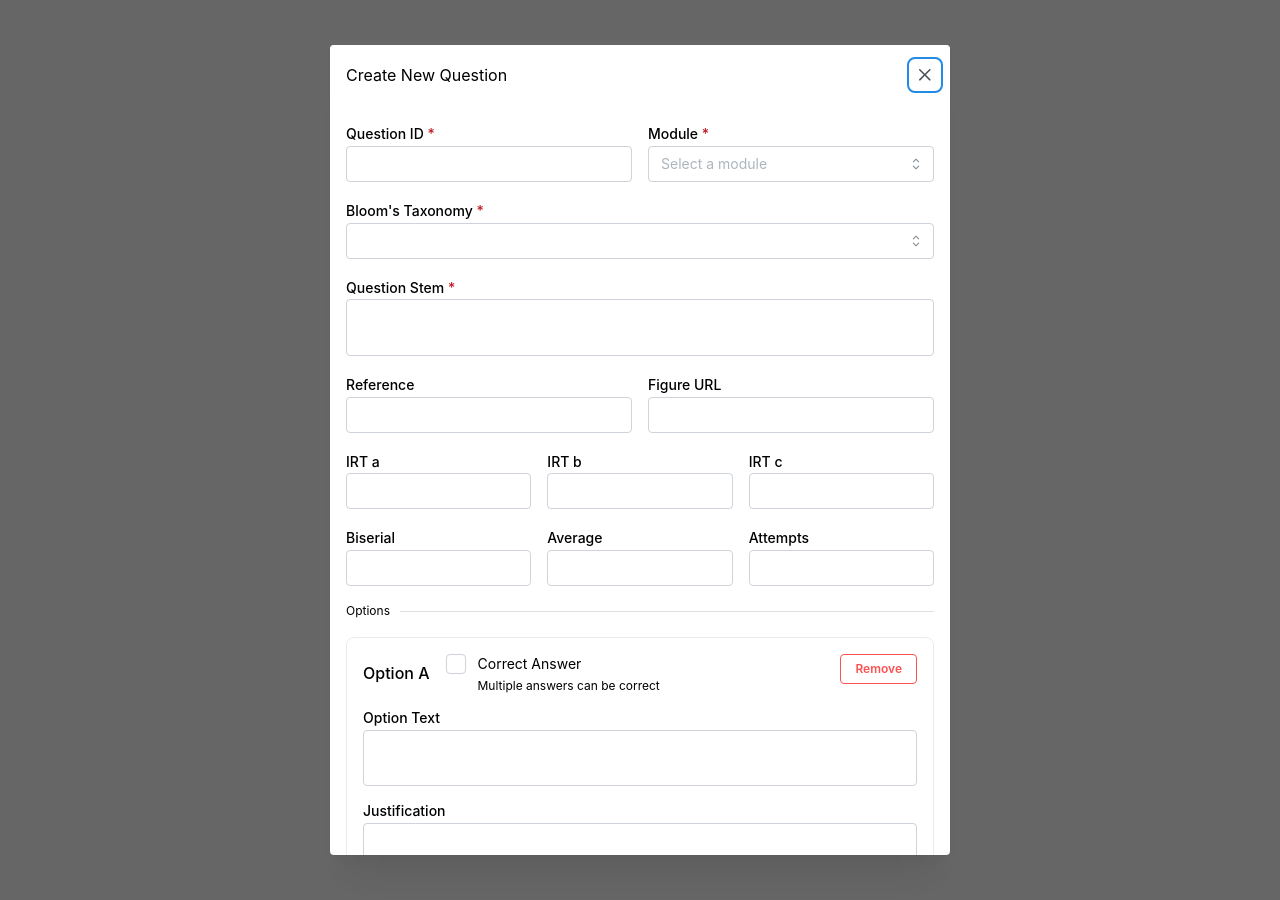
Scenario: EditQuestionModal › disables remove buttons when only 2 options remain
Click the button "Remove".
click(879, 669)  # box [840, 654, 917, 684]
(page scrolled)
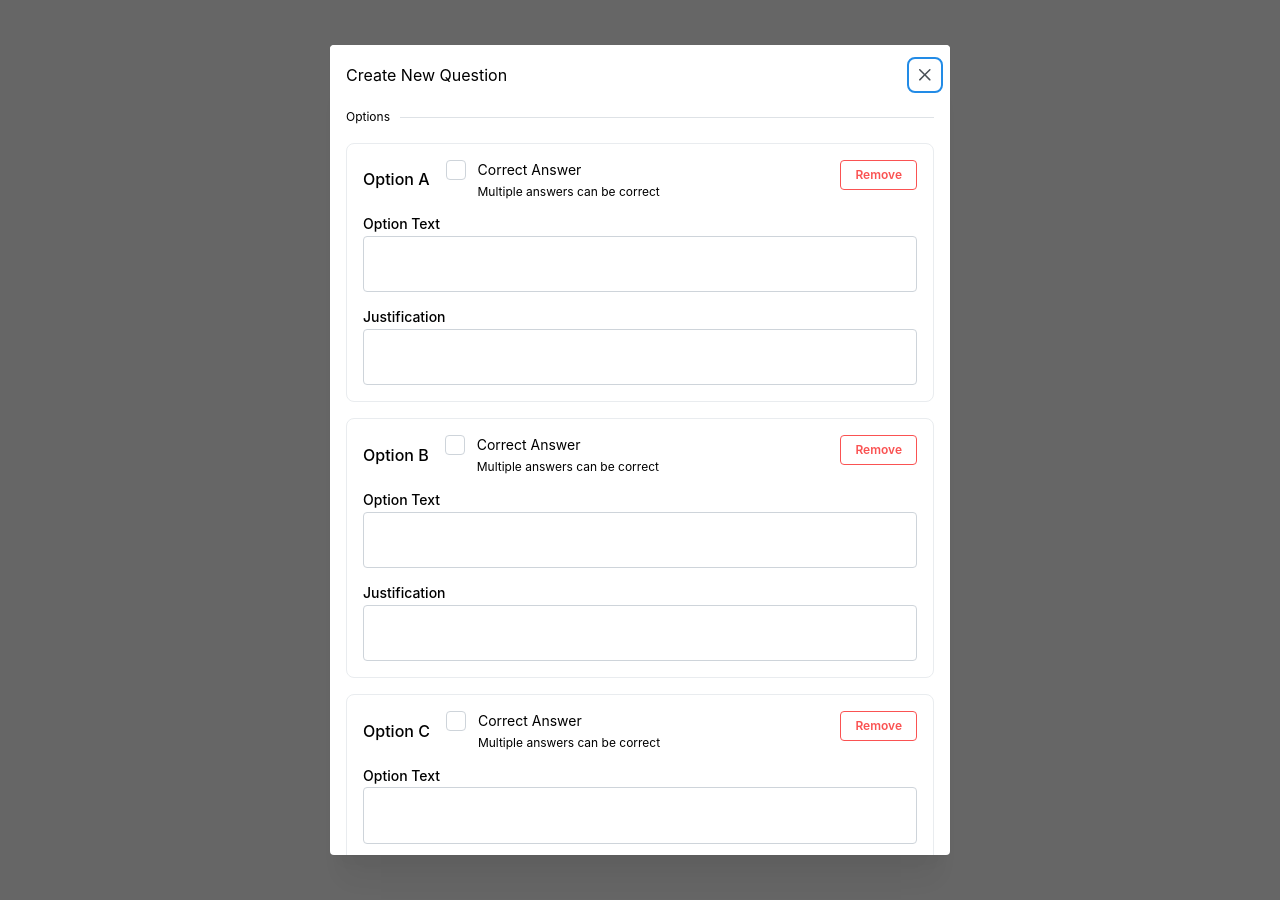
Click the 2nd button "Remove".
click(879, 450)  # box [840, 436, 917, 466]
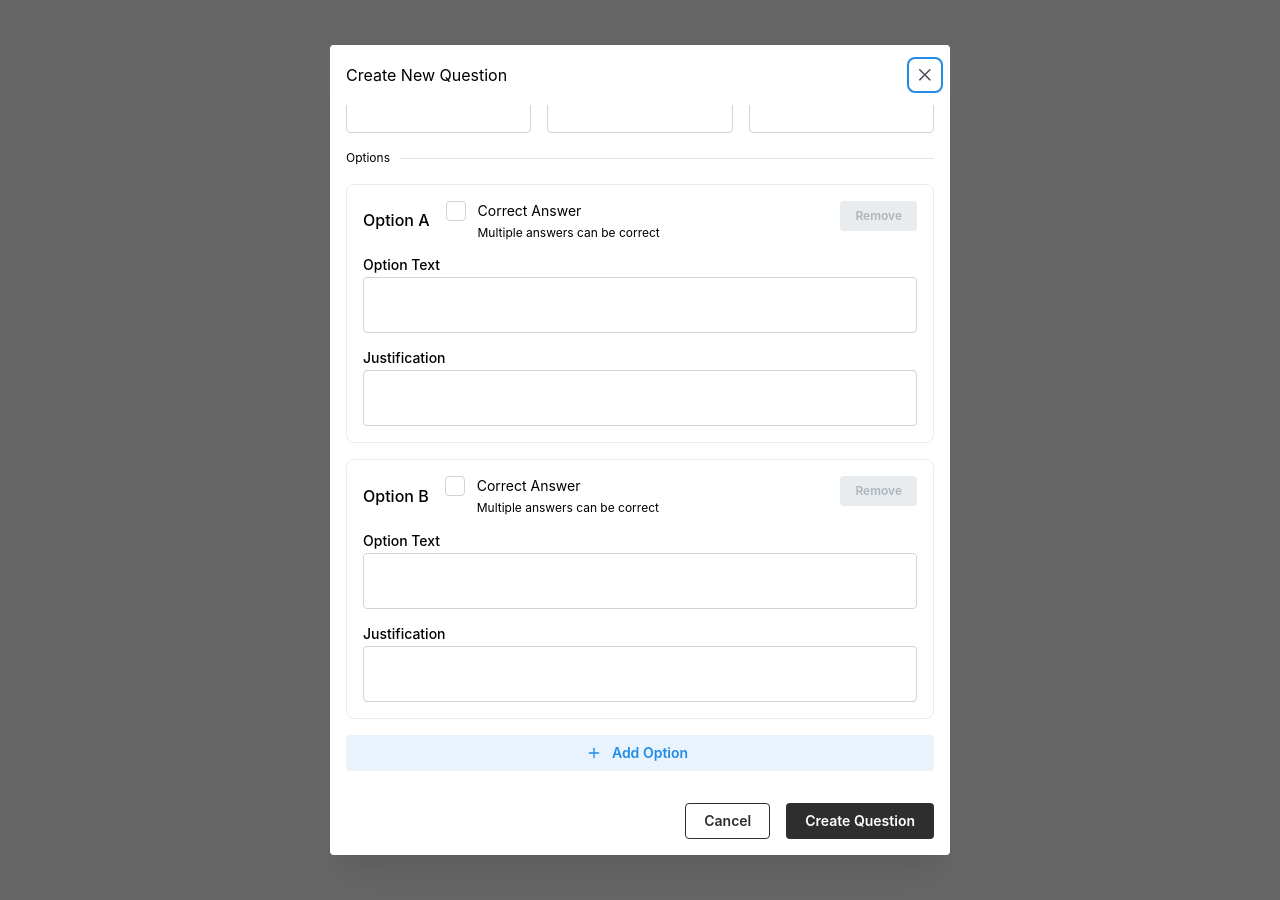
Expected: the 1st button "Remove" is disabled, [840, 201, 917, 231]
Expected: the 2nd button "Remove" is disabled, [840, 476, 917, 506]
